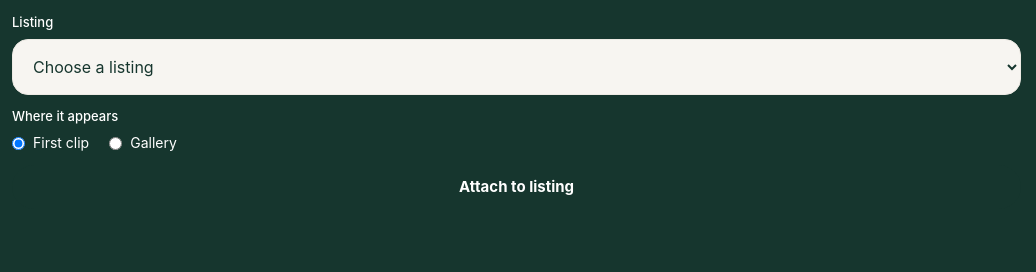
Test: a refused attach › keeps the listing and the place chosen
The image size is (1036, 272).
Select "Dawn snorkel · Draft" in the dropdown labelled "Listing" at (516, 67), box [12,39,1021,95]
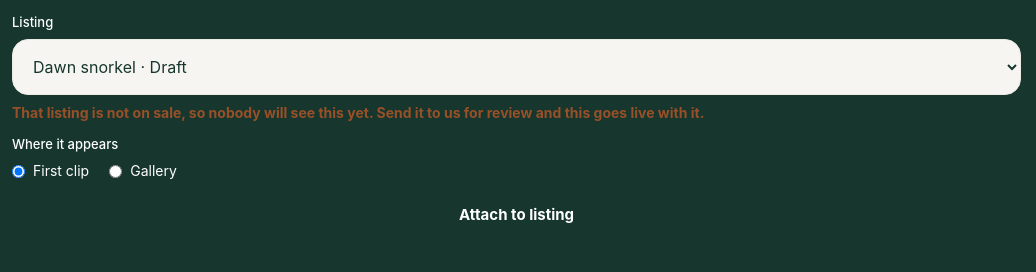
Click the radio button labelled "Gallery".
click(116, 171)  # box [109,164,122,178]
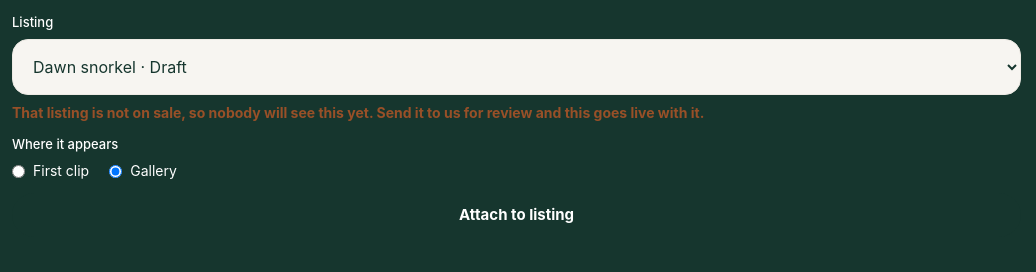
Click the button "Attach to listing".
click(516, 215)  # box [12,193,1021,237]
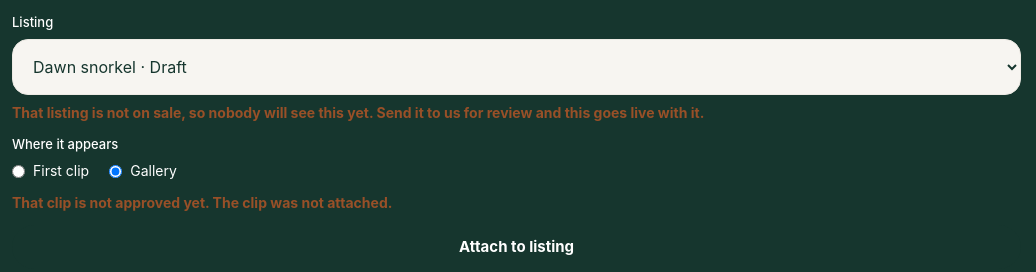
Check: the dropdown labelled "Listing" shows "Dawn snorkel · Draft", box [12,39,1021,95]
Check: the radio button labelled "Gallery" is checked, box [109,164,122,178]
Check: the message shows "The clip was not attached.", box [12,194,392,211]
